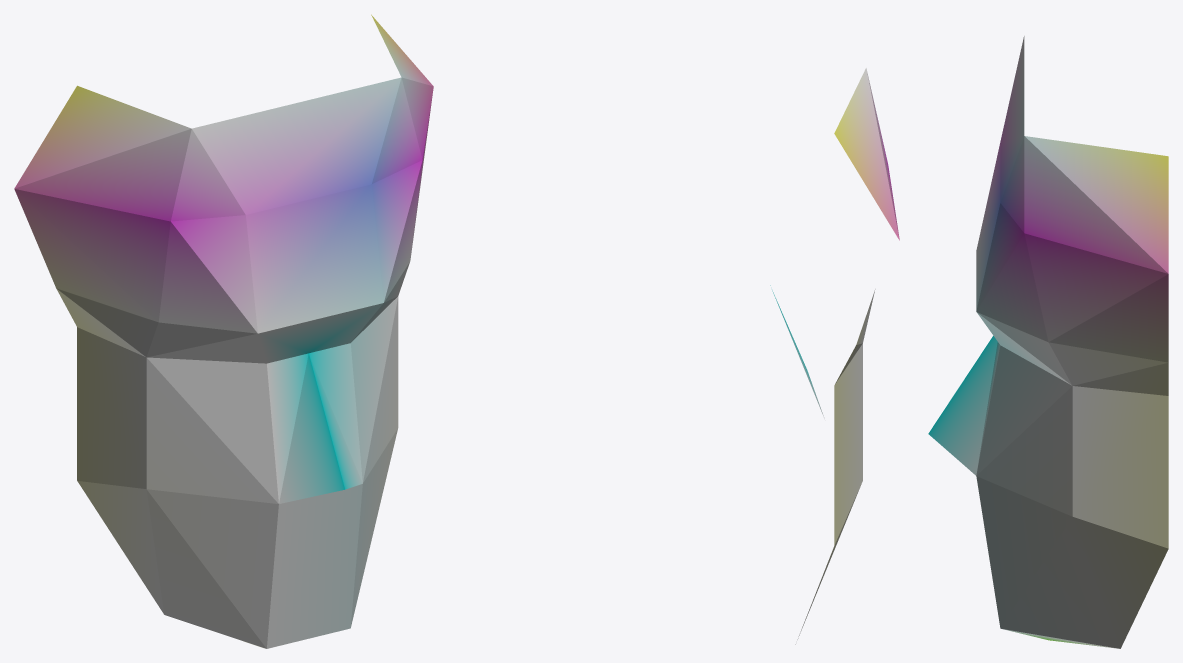
3 views of the same model, side by side, from view 1: azimuth 30°, elevation 25°; view 2: azimuth 150°, elevation 25°; view 3: azimuth 270°, elevation 25° (orthographic). The views are drawn at different scales.
Visible parts, largest first — view 1: model_140B; view 2: model_140B; view 3: model_140B.
Part boxes in pixels (box(x1,y1,x2,y2)): model_140B: box(14, 14, 433, 648); model_140B: box(770, 68, 899, 644); model_140B: box(928, 36, 1168, 648).
Bounding box in the file's own units: 20 × 25 × 10.
